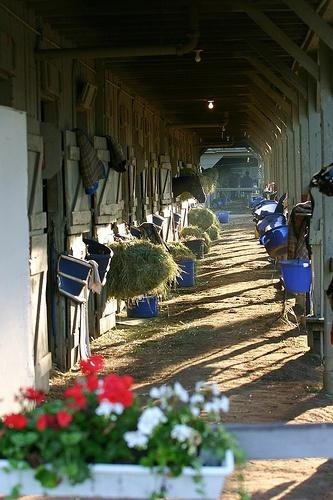horse: (174, 173, 211, 203)
pottedplant: (2, 359, 241, 500)
